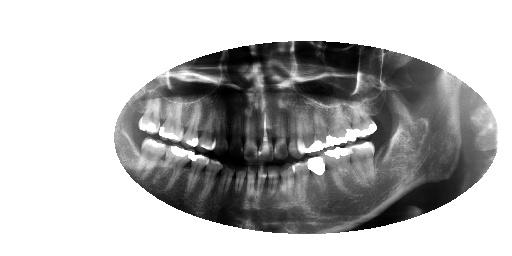i10decay: (231, 162, 248, 210)
i11decay: (216, 159, 237, 211)
i12healthy: (200, 152, 225, 210)
i13healthy: (182, 149, 211, 205)
i14healthy: (152, 140, 195, 199)
i15healthy: (134, 133, 168, 183)
i2healthy: (341, 139, 377, 187)
i3healthy: (318, 145, 359, 197)
i4healthy: (302, 153, 336, 197), (288, 157, 314, 203)
i6healthy: (278, 159, 299, 208)
i7healthy: (262, 160, 282, 209)
i8healthy: (254, 164, 271, 212)
i9healthy: (243, 161, 258, 214)
u10decay: (227, 96, 246, 164)
u11decay: (212, 101, 228, 161)
u12healthy: (197, 100, 218, 155)
u13healthy: (182, 99, 204, 152)
u14healthy: (157, 92, 185, 148)
u15healthy: (137, 91, 163, 139)
u2healthy: (346, 95, 380, 144)
u3healthy: (322, 100, 358, 150)
u4healthy: (307, 105, 336, 155)
u5healthy: (292, 102, 326, 157)
u6healthy: (285, 99, 307, 159)
u7healthy: (271, 99, 290, 163)
u8healthy: (254, 97, 277, 163)
u9decay: (242, 98, 260, 166)
